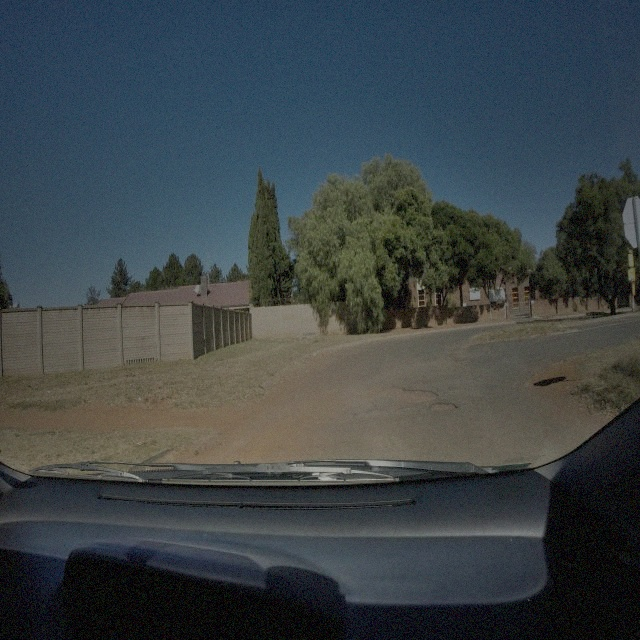pothole: (390, 383, 437, 401), (430, 402, 457, 413)
